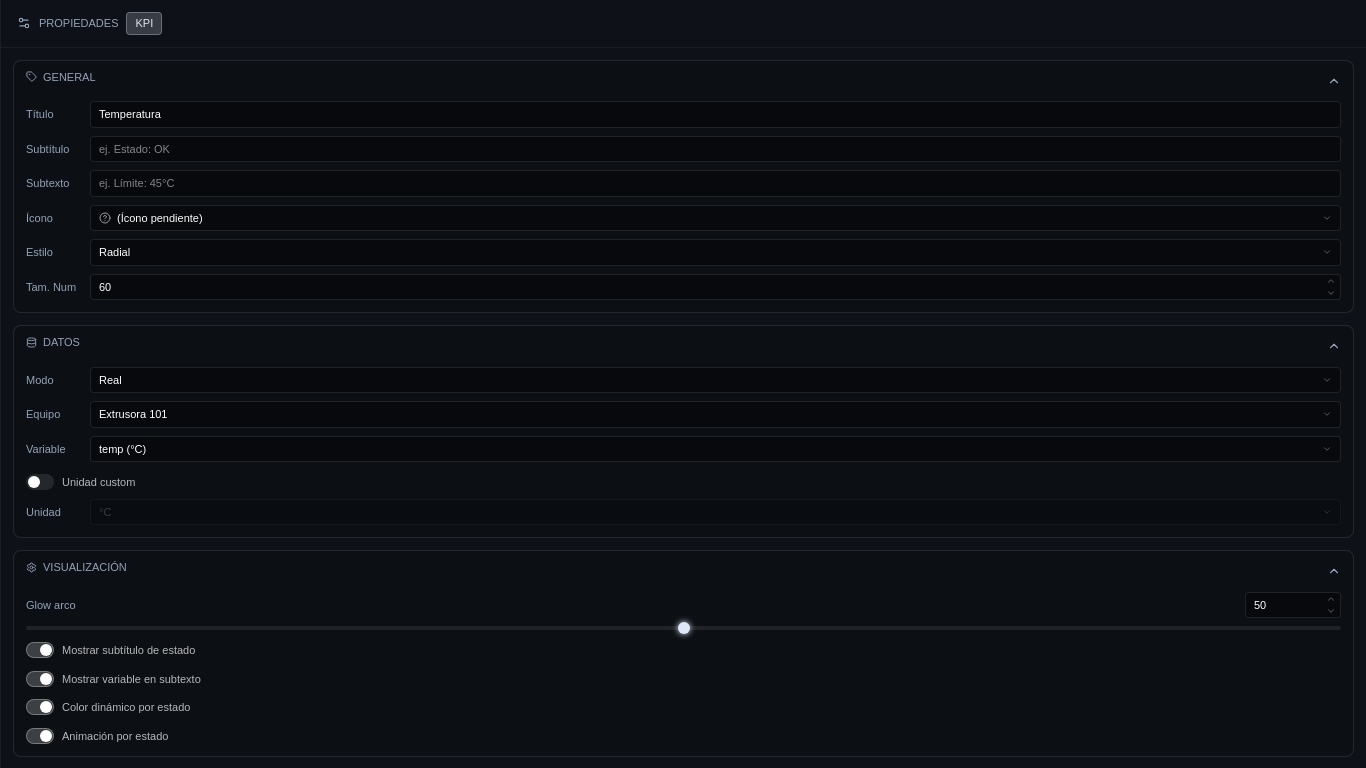
Test: PropertyDock Node-RED binding › resets variableKey when the selected machine changes to one that does not contain it
The image size is (1366, 768).
Click the button "Extrusora 101".
click(133, 414)  # box [90,401,1341,428]
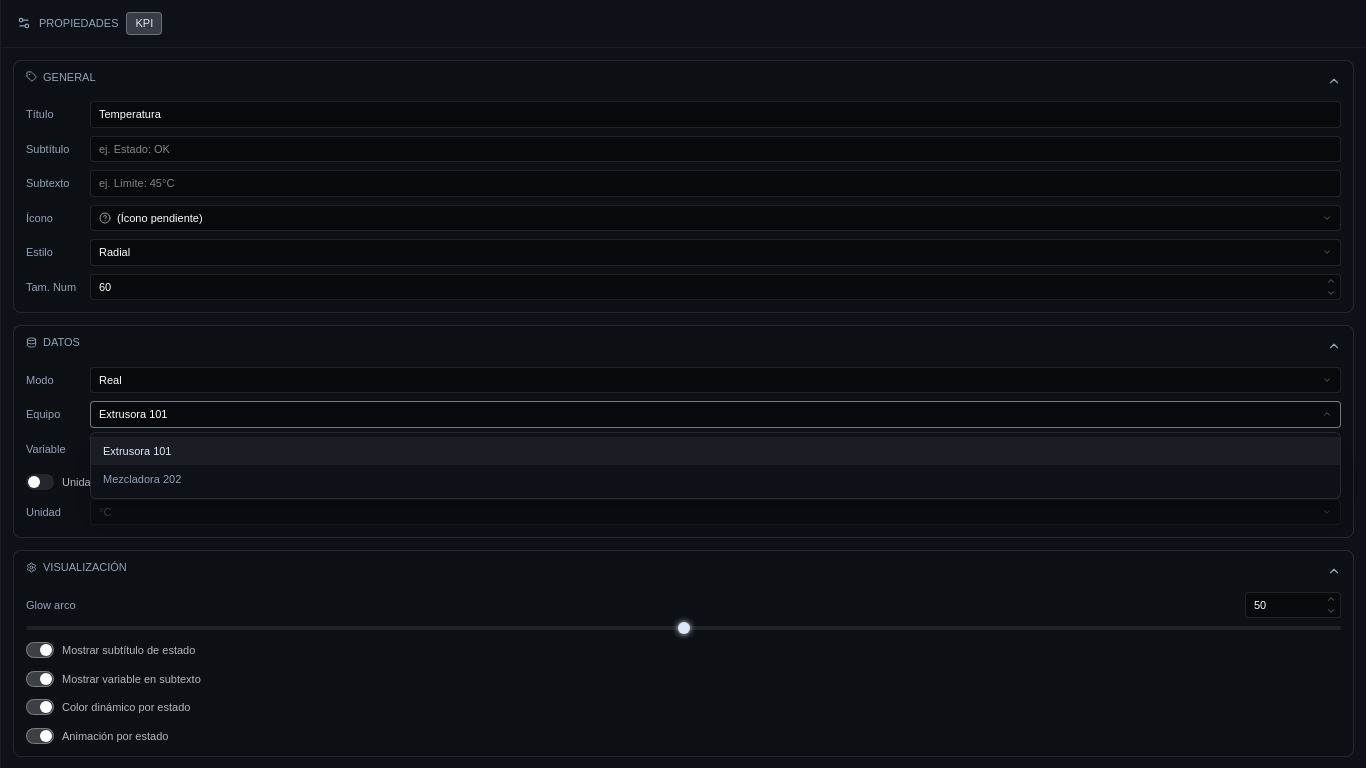
Click the button "Mezcladora 202".
click(142, 479)  # box [91,465,1340,494]
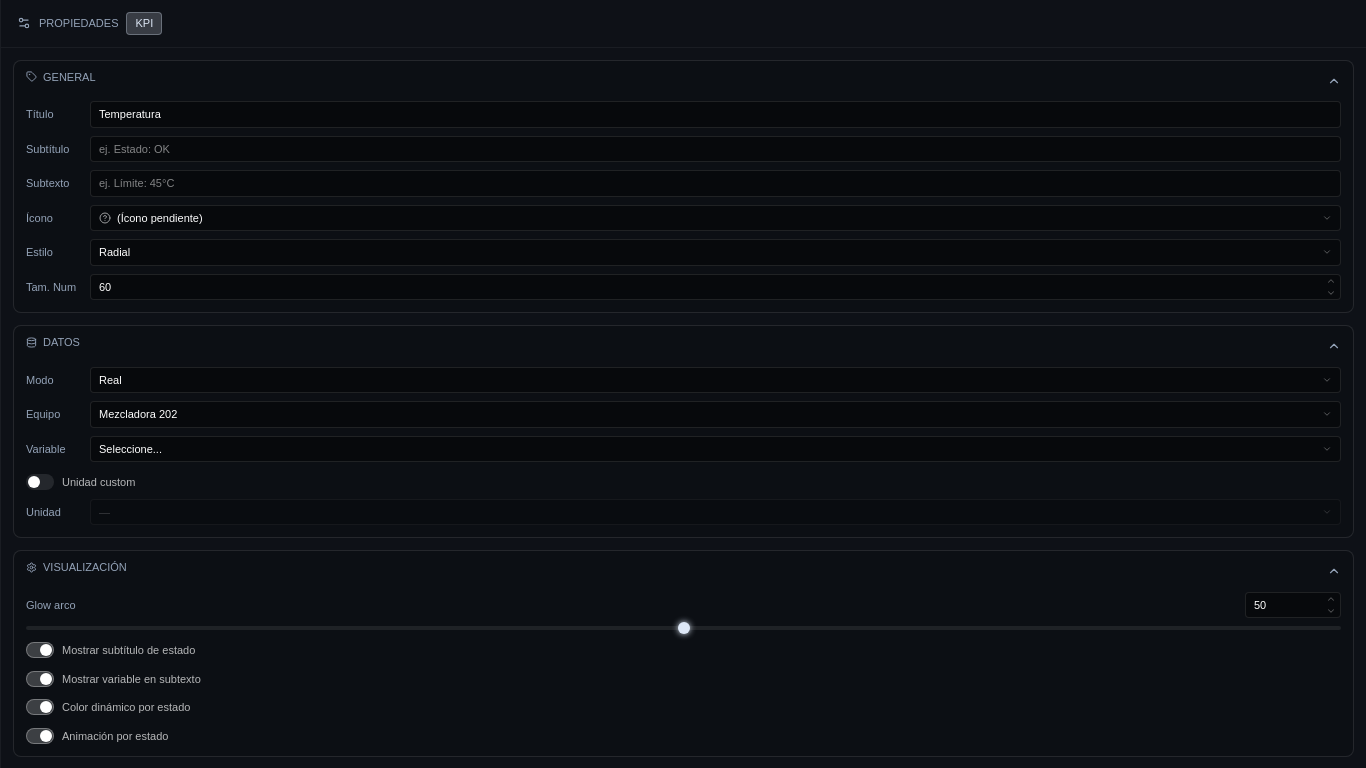
Expected: the button "Seleccione..." is shown, [90,436,1341,462]
